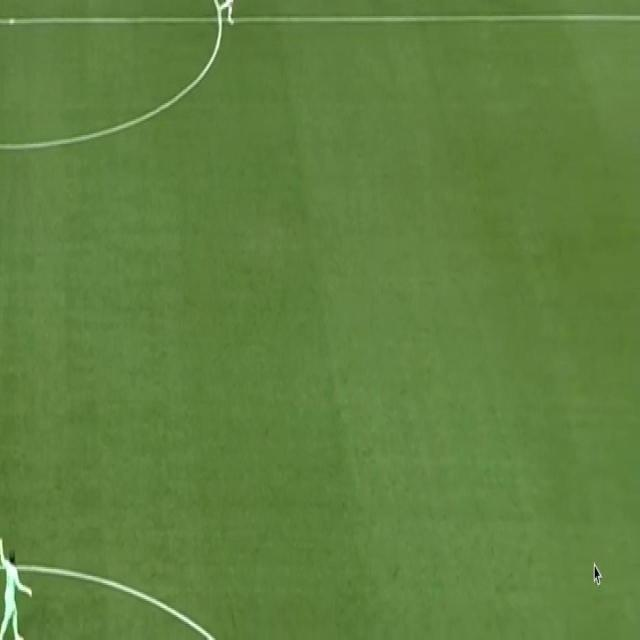player-white: (0, 537, 33, 640), (219, 0, 236, 26)
